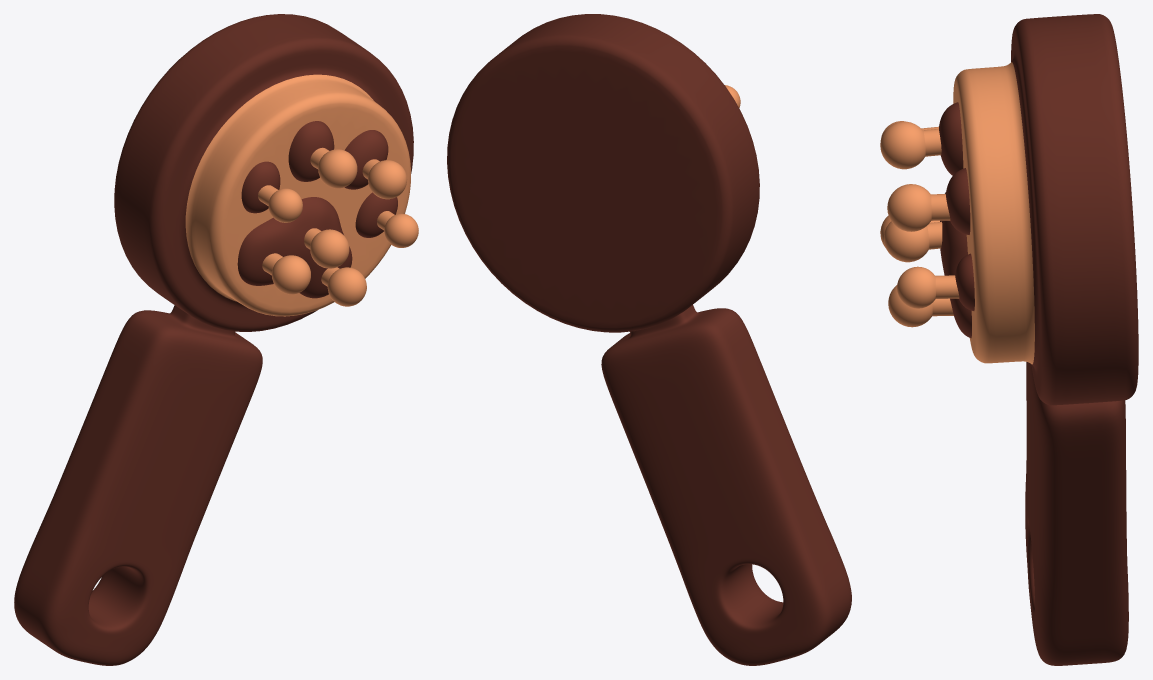
The model's file is Pet Comb.fbx.
3 renders of one model, left to right at view 1: azimuth 30°, elevation 25°; view 2: azimuth 150°, elevation 25°; view 3: azimuth 270°, elevation 25°, orthographic. The views are drawn at different scales.
Visible parts, largest first — view 1: Brush Head, Handle, Paws, Brush; view 2: Brush Head, Handle; view 3: Brush Head, Handle, Brush, Paws.
Part boxes in pixels (x1,y1,x2,y2): Brush Head: (114,14,413,331); Handle: (14,305,262,665); Paws: (237,121,397,298); Brush: (258,147,418,306); Brush Head: (447,14,759,332); Handle: (601,305,851,665); Brush Head: (953,14,1138,405); Handle: (1025,362,1128,665); Brush: (880,121,959,327); Paws: (939,102,974,338).
Bounding box in the file's own units: 158 × 236 × 76.97.
